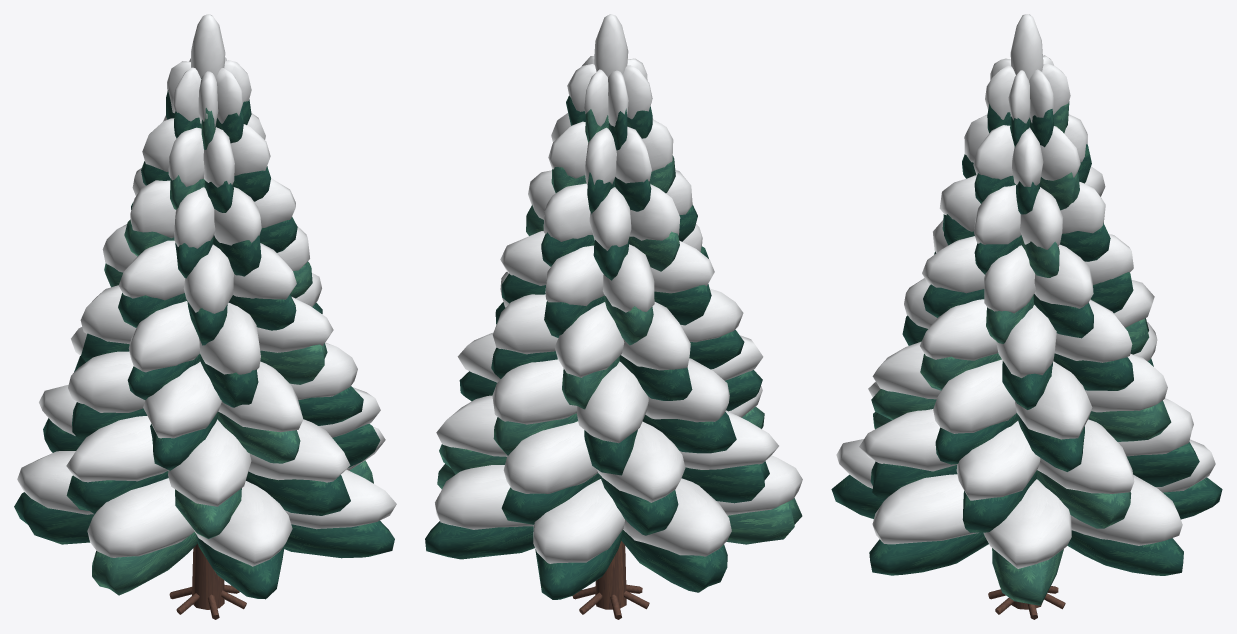
File: tree_1.glb
3 renders of one model, left to right at view 1: azimuth 30°, elevation 25°; view 2: azimuth 150°, elevation 25°; view 3: azimuth 270°, elevation 25°, orthographic.
Visible parts, largest first — view 1: tree_1; view 2: tree_1; view 3: tree_1.
Part boxes in pixels (box(x1,y1,x2,y2)): tree_1: box(14, 14, 396, 619); tree_1: box(425, 14, 802, 619); tree_1: box(831, 14, 1222, 619).
Size of the model in its own units: 5.03 by 8.81 by 5.29.
1 material, 1 textured.
